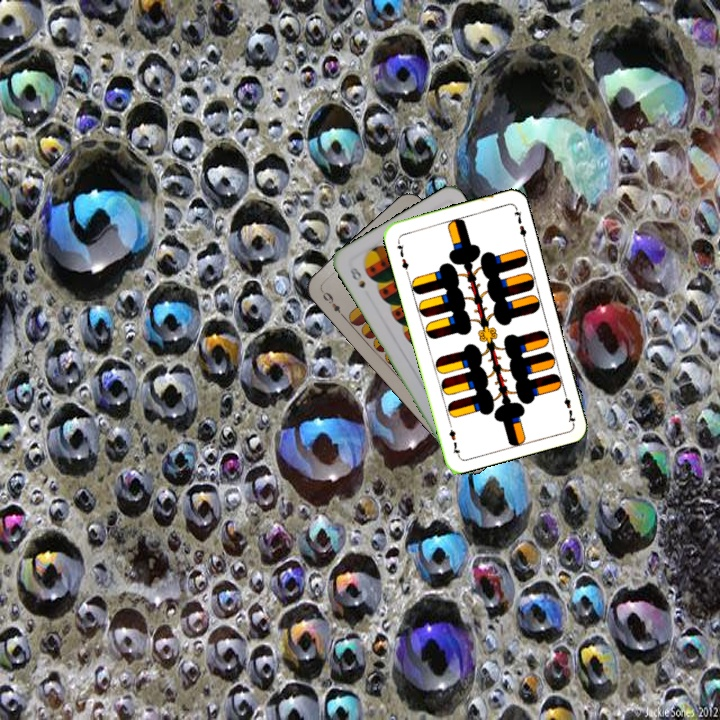E7: (559, 386, 578, 426), (393, 236, 411, 276)
E9: (317, 286, 347, 320)
S8: (346, 263, 368, 291)
